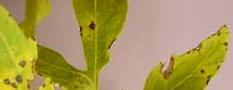Tomato leaf bacterial spot: (111, 22, 229, 90), (0, 0, 64, 90), (71, 0, 129, 84)
